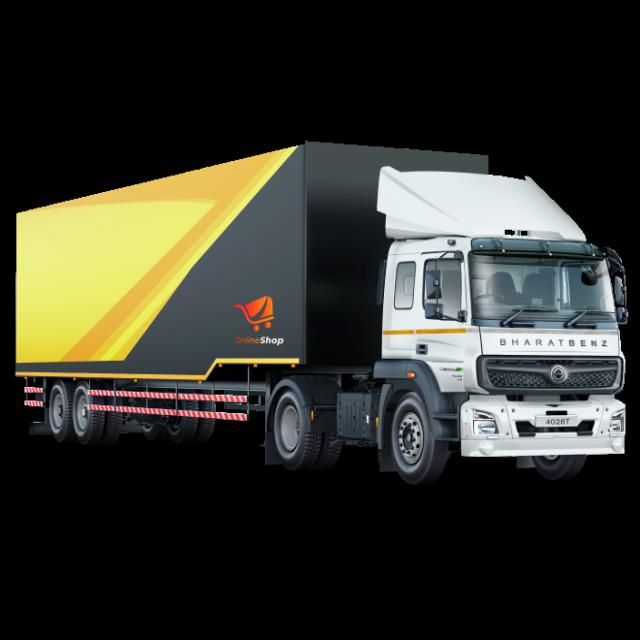truck: (15, 143, 626, 483)
